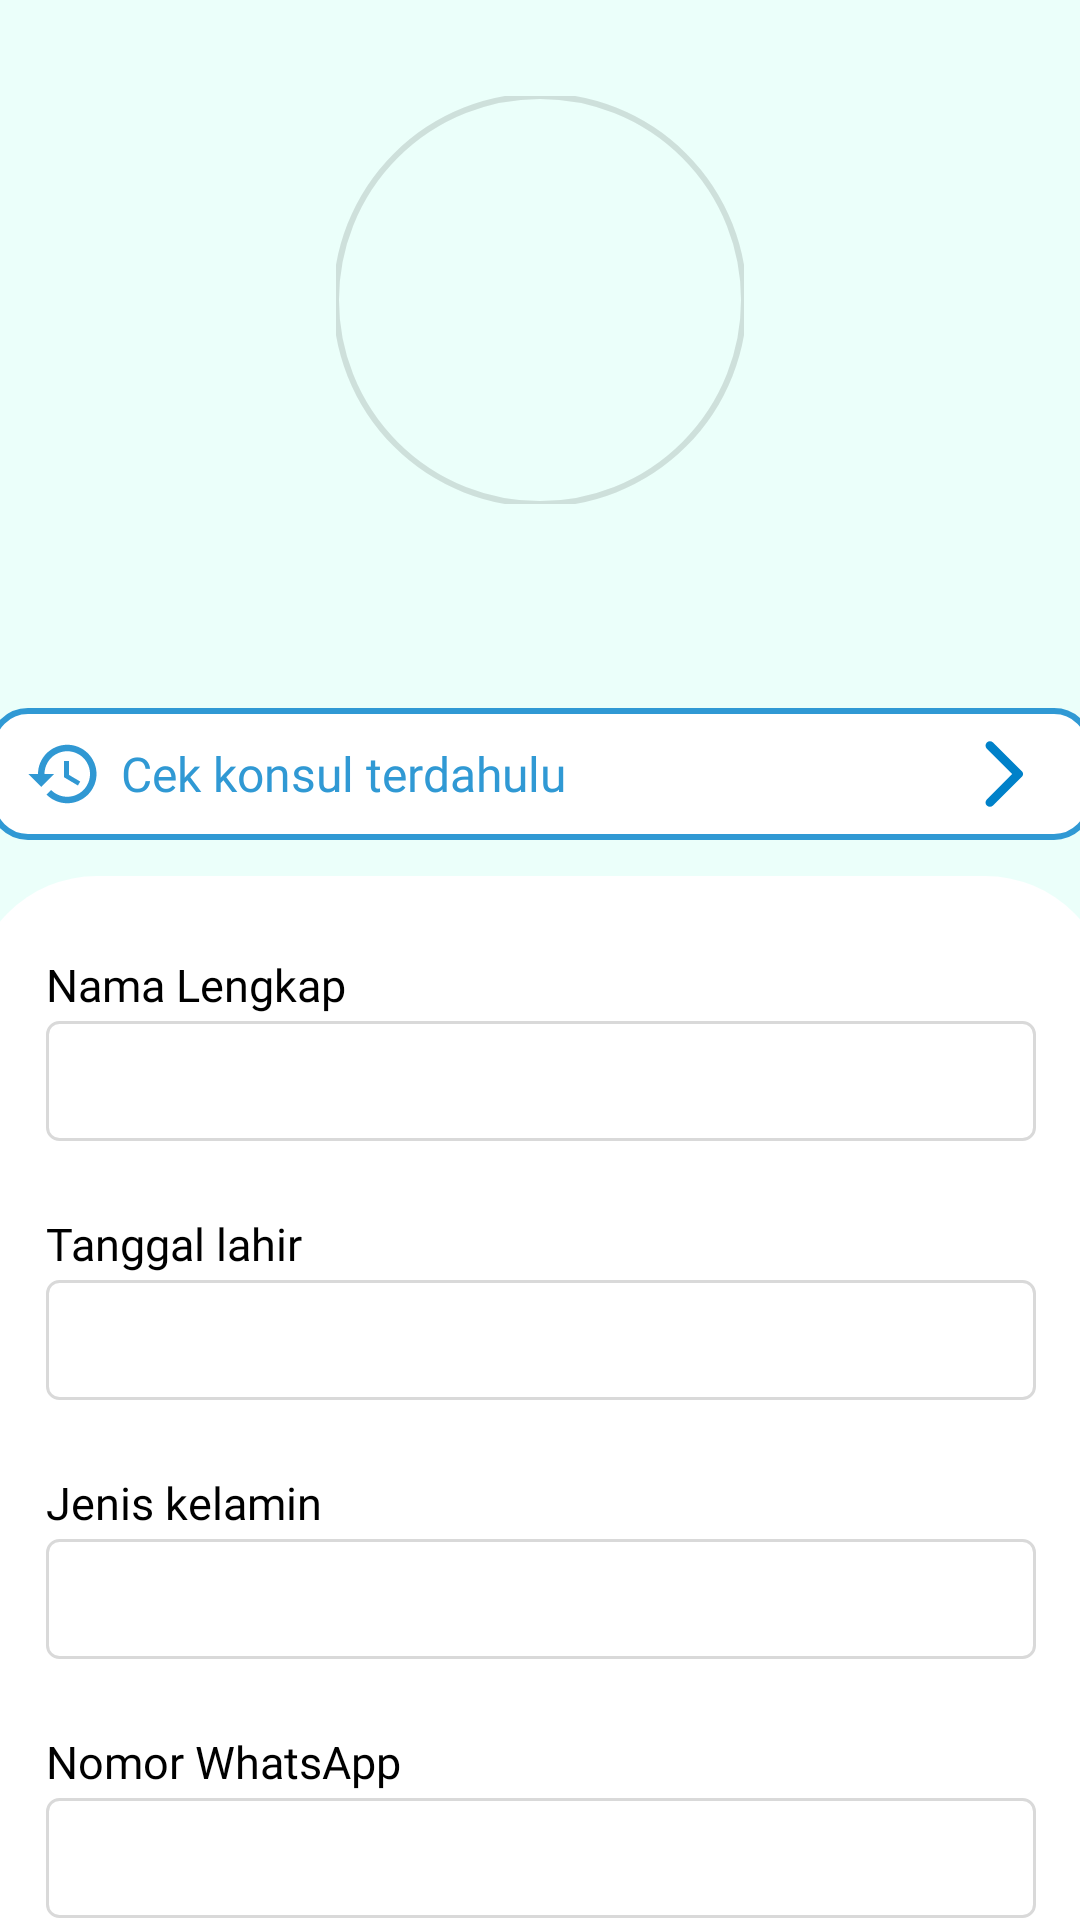

Where icons sit on this 1080 x 1920 app screen, as rect(x1, y1, x2, y2):
arrow forward: rect(985, 741, 1023, 807)
history: rect(28, 744, 97, 804)
